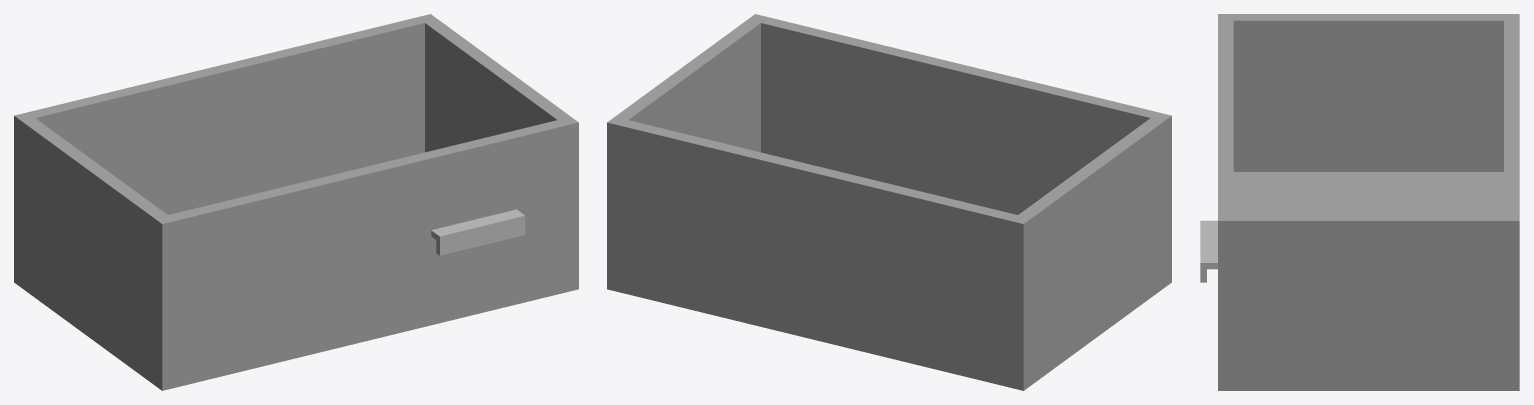
The model's file is P_Filing_Cabinet_Drawer.fbx.
The picture shows the model from 3 angles, left to right: view 1: azimuth 30°, elevation 25°; view 2: azimuth 150°, elevation 25°; view 3: azimuth 270°, elevation 25°; orthographic projection.
Parts seen in each view (by area): view 1: P_Filing_Cabinet_Drawer; view 2: P_Filing_Cabinet_Drawer; view 3: P_Filing_Cabinet_Drawer.
Boxes of the visible parts, x1,y1,x2,y2 form: P_Filing_Cabinet_Drawer: (14,14,578,390); P_Filing_Cabinet_Drawer: (607,14,1171,390); P_Filing_Cabinet_Drawer: (1200,14,1519,390).
Bounding box in the file's own units: 326 × 213 × 125.
